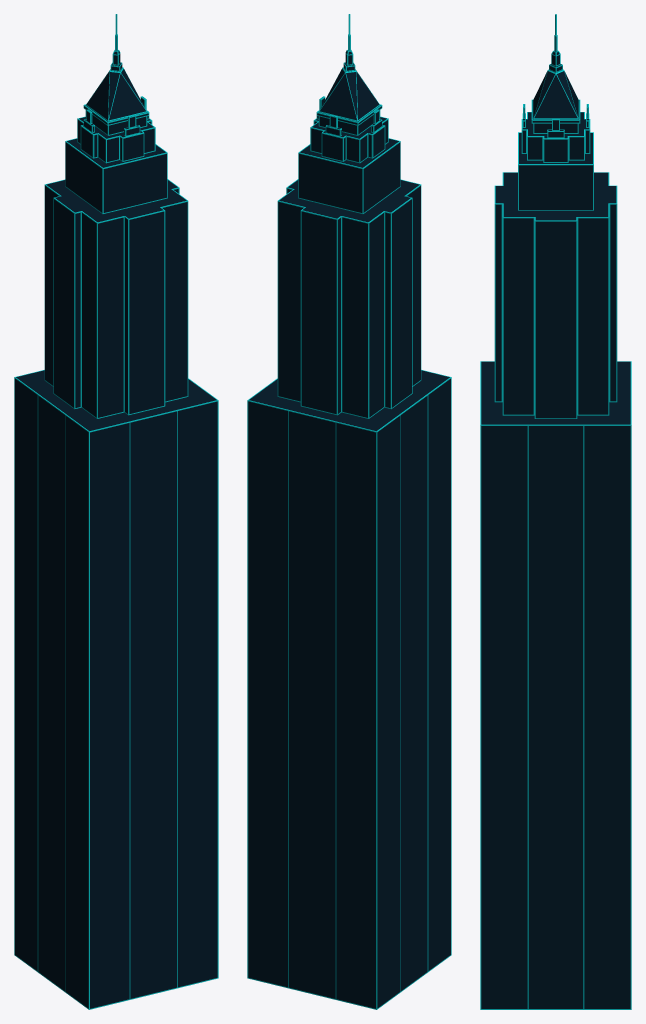
The picture shows the model from 3 angles, left to right: view 1: azimuth 30°, elevation 25°; view 2: azimuth 150°, elevation 25°; view 3: azimuth 270°, elevation 25°; orthographic projection.
Parts seen in each view (by area): view 1: BuildingA01; view 2: BuildingA01; view 3: BuildingA01.
Boxes of the visible parts, <box> form: BuildingA01: <box>14,14,218,1009</box>; BuildingA01: <box>247,14,451,1009</box>; BuildingA01: <box>480,14,631,1009</box>.
Size of the model in its own units: 27.48 by 193 by 27.48.
1 material, 1 textured.
